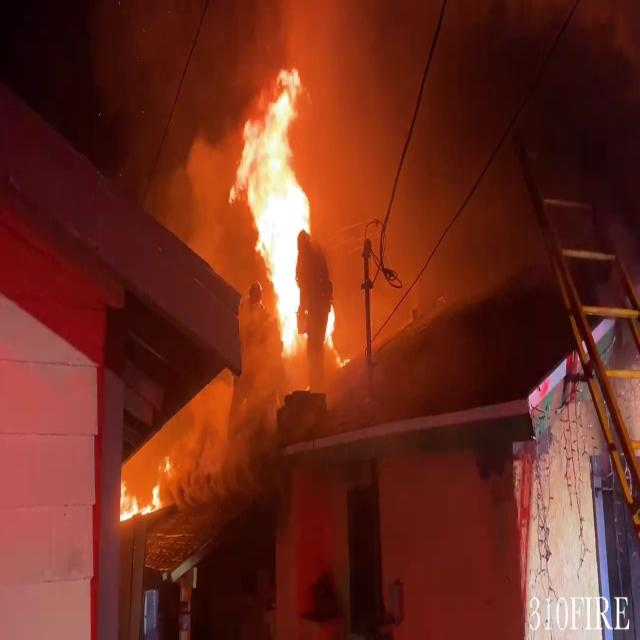Fire: (239, 66, 317, 356), (115, 468, 165, 527)
Smoke: (312, 3, 532, 350)
